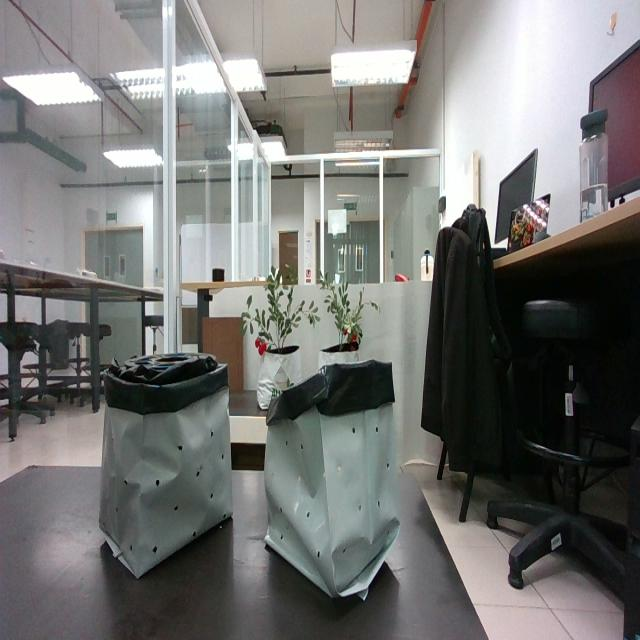Soilbag: (264, 366, 400, 602), (98, 353, 233, 580)
